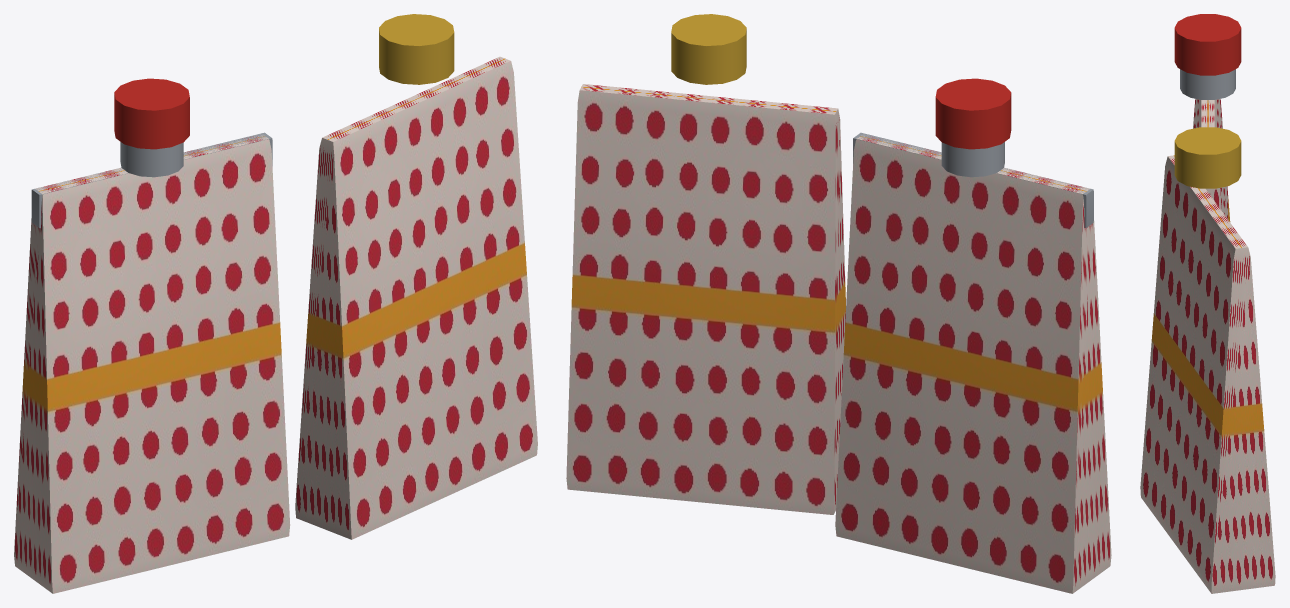
File: ration_pouch_fruit_puree_spout.glb
3 views of the same model, side by side, from view 1: azimuth 30°, elevation 25°; view 2: azimuth 150°, elevation 25°; view 3: azimuth 270°, elevation 25° (orthographic). The views are drawn at different scales.
Visible parts, largest first — view 1: ration_pouch_fruit_puree_spout; view 2: ration_pouch_fruit_puree_spout; view 3: ration_pouch_fruit_puree_spout.
Boxes of the visible parts, <box> form: ration_pouch_fruit_puree_spout: <box>14,14,537,593</box>; ration_pouch_fruit_puree_spout: <box>566,14,1111,593</box>; ration_pouch_fruit_puree_spout: <box>1140,14,1275,593</box>.
Bounding box in the file's own units: 0.1917 × 0.165 × 0.0505.
4 materials, 1 textured.
